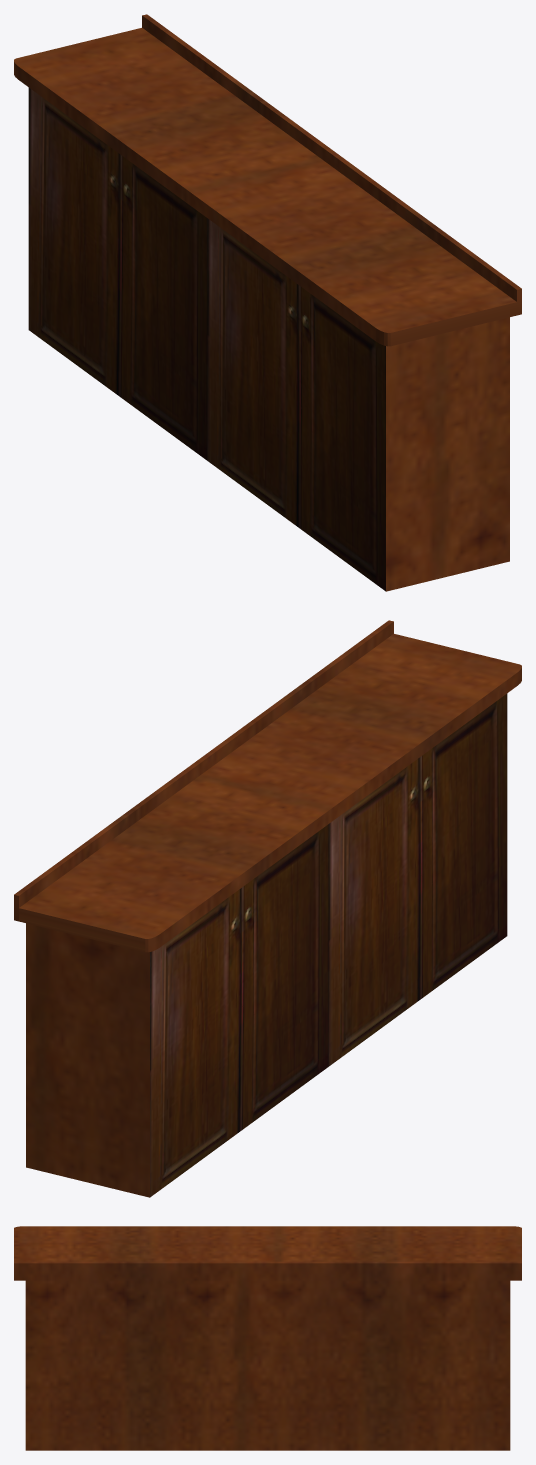
File: Kitchen Counter2.fbx
The picture shows the model from 3 angles, top to bottom: view 1: azimuth 30°, elevation 25°; view 2: azimuth 150°, elevation 25°; view 3: azimuth 270°, elevation 25°; orthographic projection. The views are drawn at different scales.
Visible parts, largest first — view 1: Cube; view 2: Cube; view 3: Cube.
Boxes of the visible parts, left/top/right/bottom form: Cube: left=14, top=14, right=521, bottom=591; Cube: left=14, top=620, right=521, bottom=1197; Cube: left=14, top=1226, right=521, bottom=1450.
Bounding box in the file's own units: 705 × 1364 × 3332.
2 materials, 2 textured.
